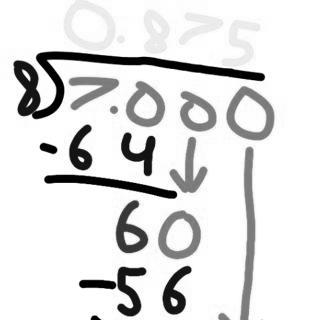.: (107, 101, 119, 119)
0: (222, 86, 282, 144), (151, 205, 203, 261), (174, 84, 221, 134), (123, 75, 164, 129)
4: (115, 126, 158, 184)
5: (116, 264, 148, 319)
6: (103, 196, 153, 256), (151, 262, 202, 317), (61, 122, 101, 175)
7: (66, 74, 122, 110)
